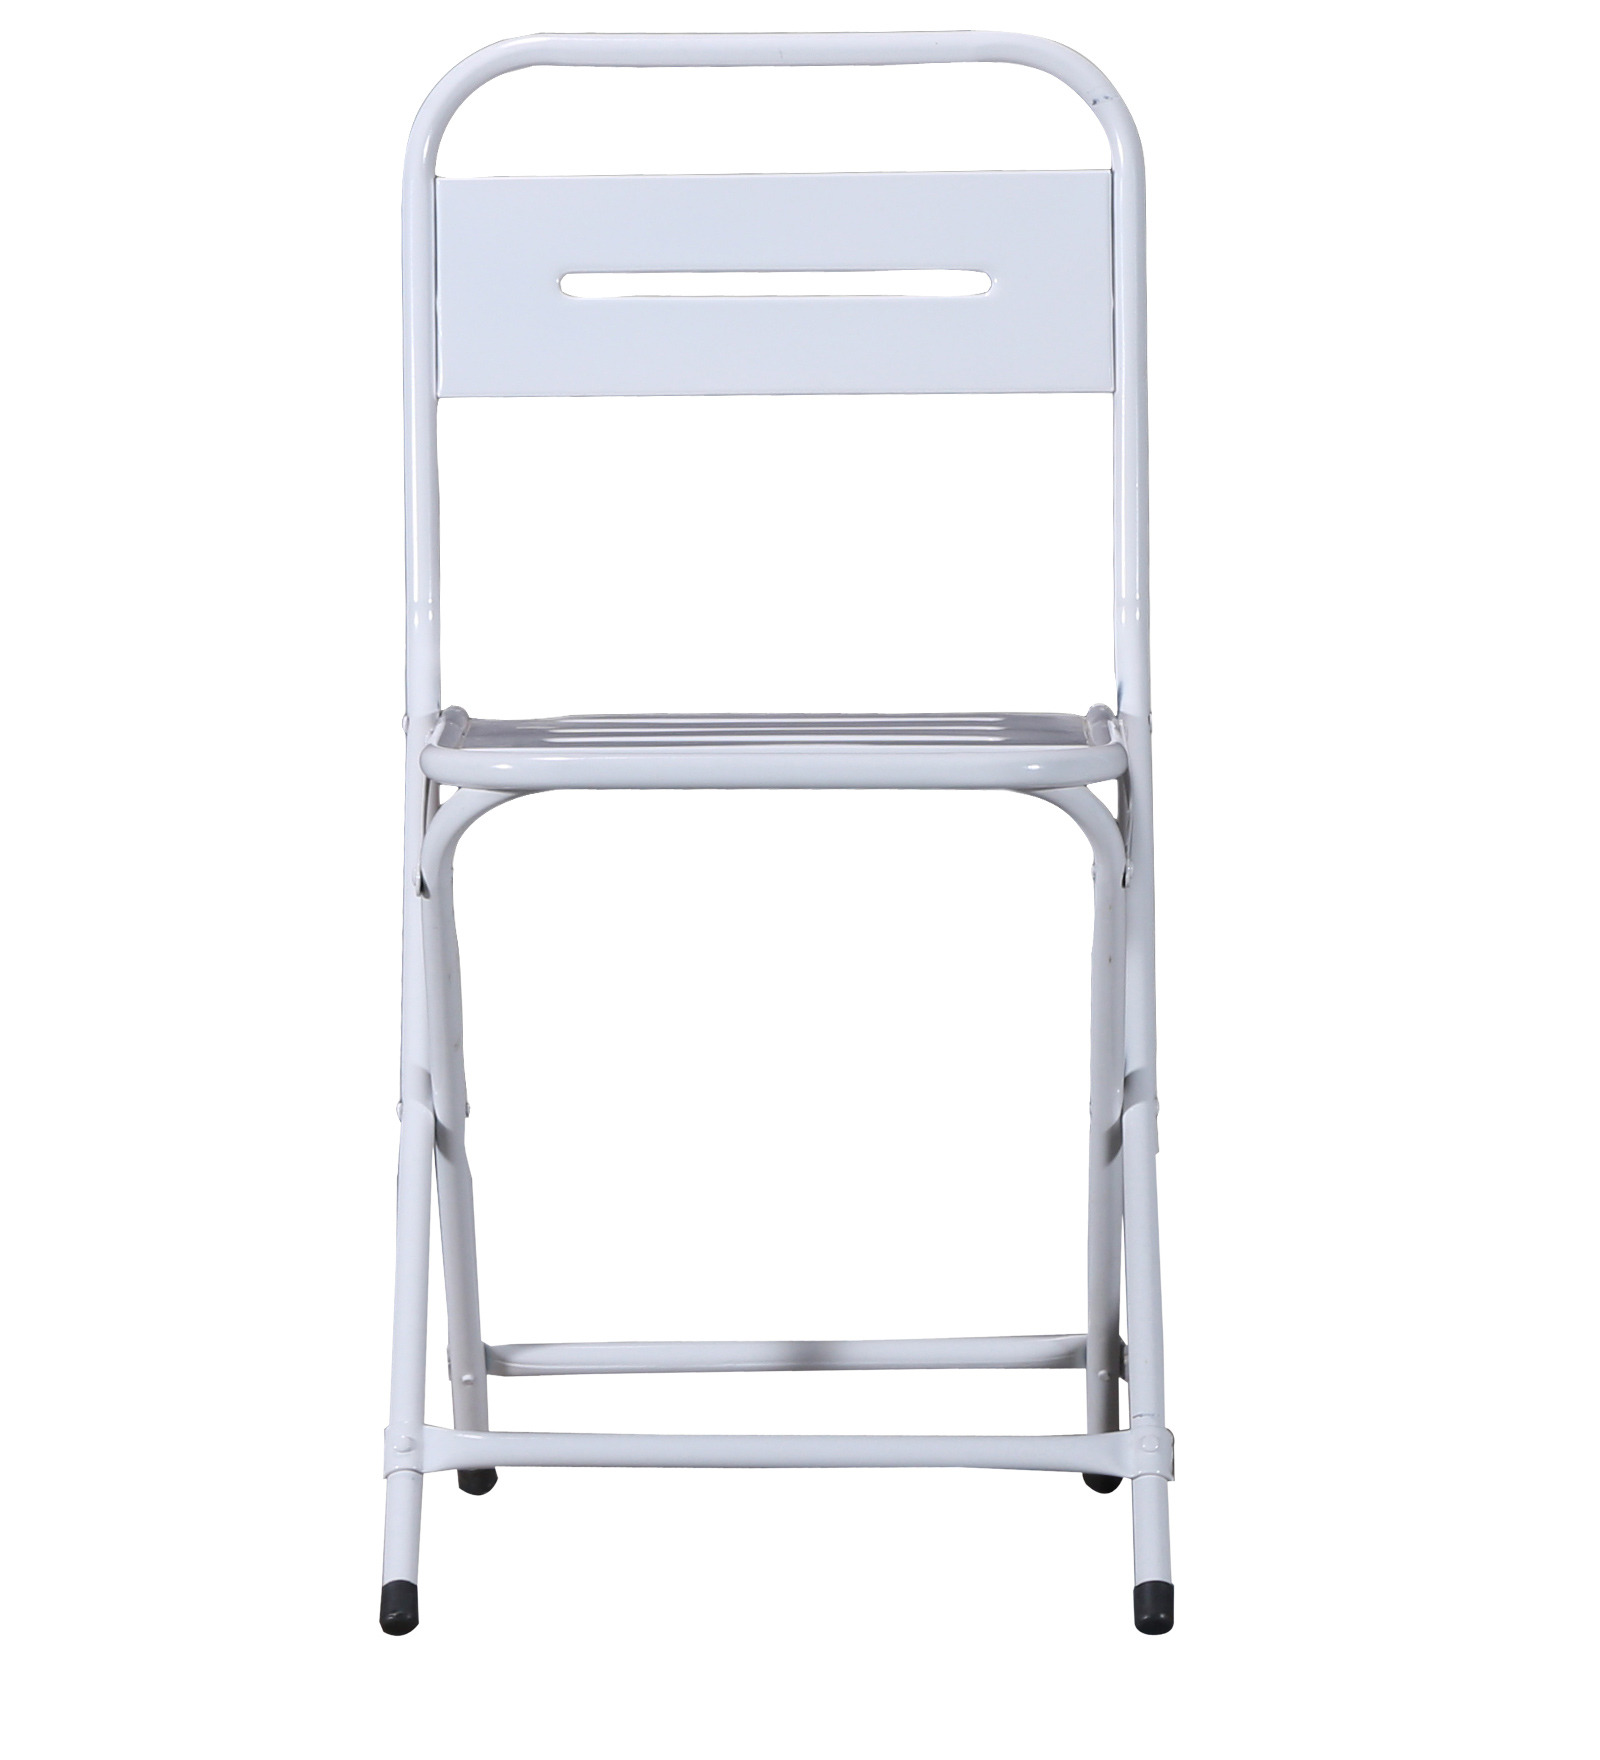Marandoo Grunge White Outdoor Folding Chair by Bohemiana: (365, 28, 1208, 1648)
